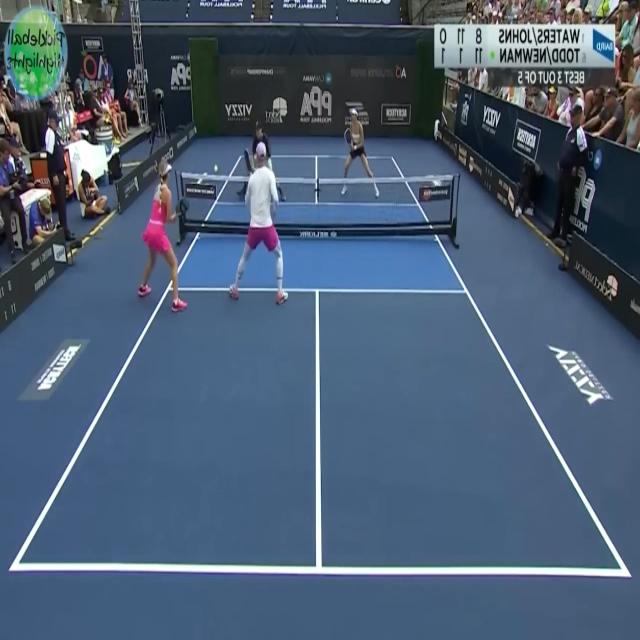Pickleball: (213, 162, 220, 174)
